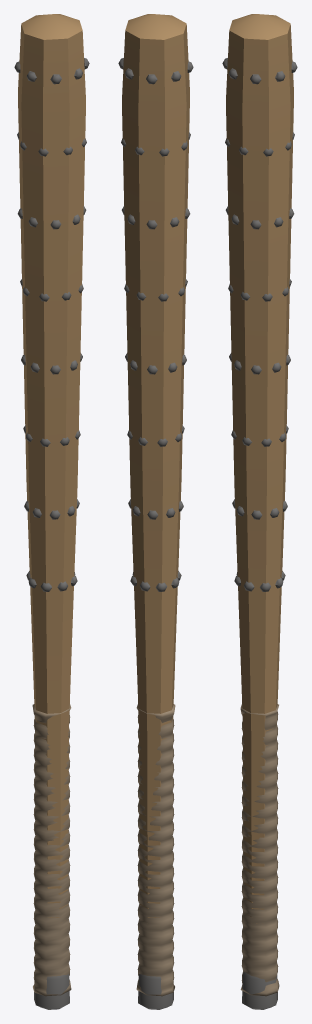
File: tetsubo.glb
The picture shows the model from 3 angles, left to right: view 1: azimuth 30°, elevation 25°; view 2: azimuth 150°, elevation 25°; view 3: azimuth 330°, elevation 25°; orthographic projection.
Parts seen in each view (by area): view 1: tetsubo; view 2: tetsubo; view 3: tetsubo.
Part boxes in pixels (<box>): tetsubo: <box>14,14,89,1009</box>; tetsubo: <box>118,14,193,1009</box>; tetsubo: <box>222,14,297,1009</box>.
Size of the model in its own units: 0.2054 by 3.09 by 0.2054.
